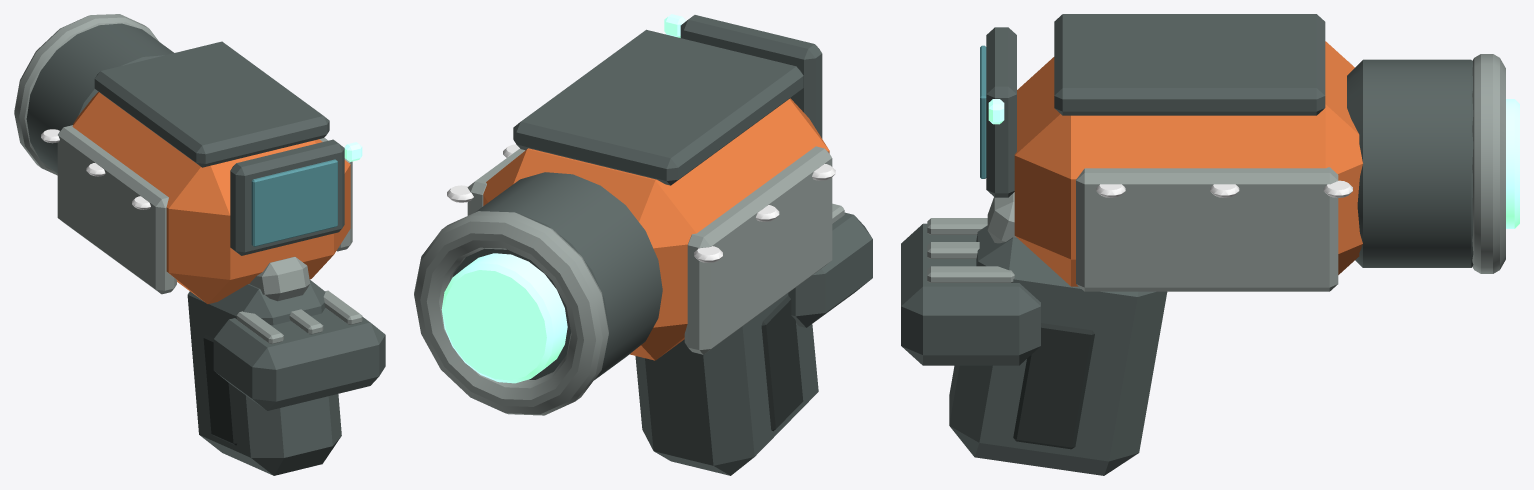
The model's file is build_tool.glb.
3 renders of one model, left to right at view 1: azimuth 30°, elevation 25°; view 2: azimuth 150°, elevation 25°; view 3: azimuth 270°, elevation 25°, orthographic. The views are drawn at different scales.
Visible parts, largest first — view 1: Tool_Body_Mesh, Screen_Surface; view 2: Tool_Body_Mesh; view 3: Tool_Body_Mesh, Screen_Surface.
Part boxes in pixels (x1,y1,x2,y2): Tool_Body_Mesh: (14,14,385,475); Screen_Surface: (251,159,337,246); Tool_Body_Mesh: (414,14,872,475); Tool_Body_Mesh: (901,14,1519,475); Screen_Surface: (980,45,986,178).
Size of the model in its own units: 0.3636 by 0.5175 by 0.7075.
